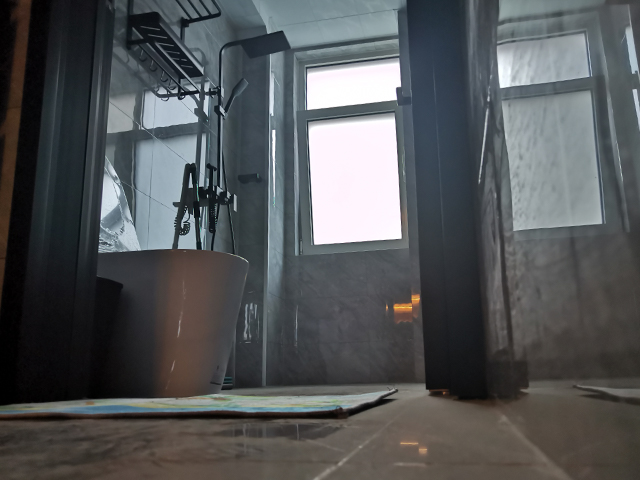carpet: (1, 387, 399, 421)
closestool: (108, 242, 252, 393)
